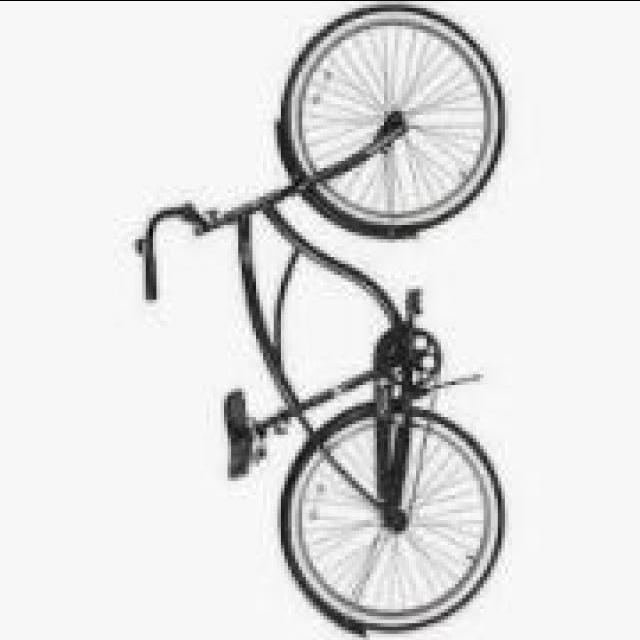bicycle: (133, 12, 499, 634)
